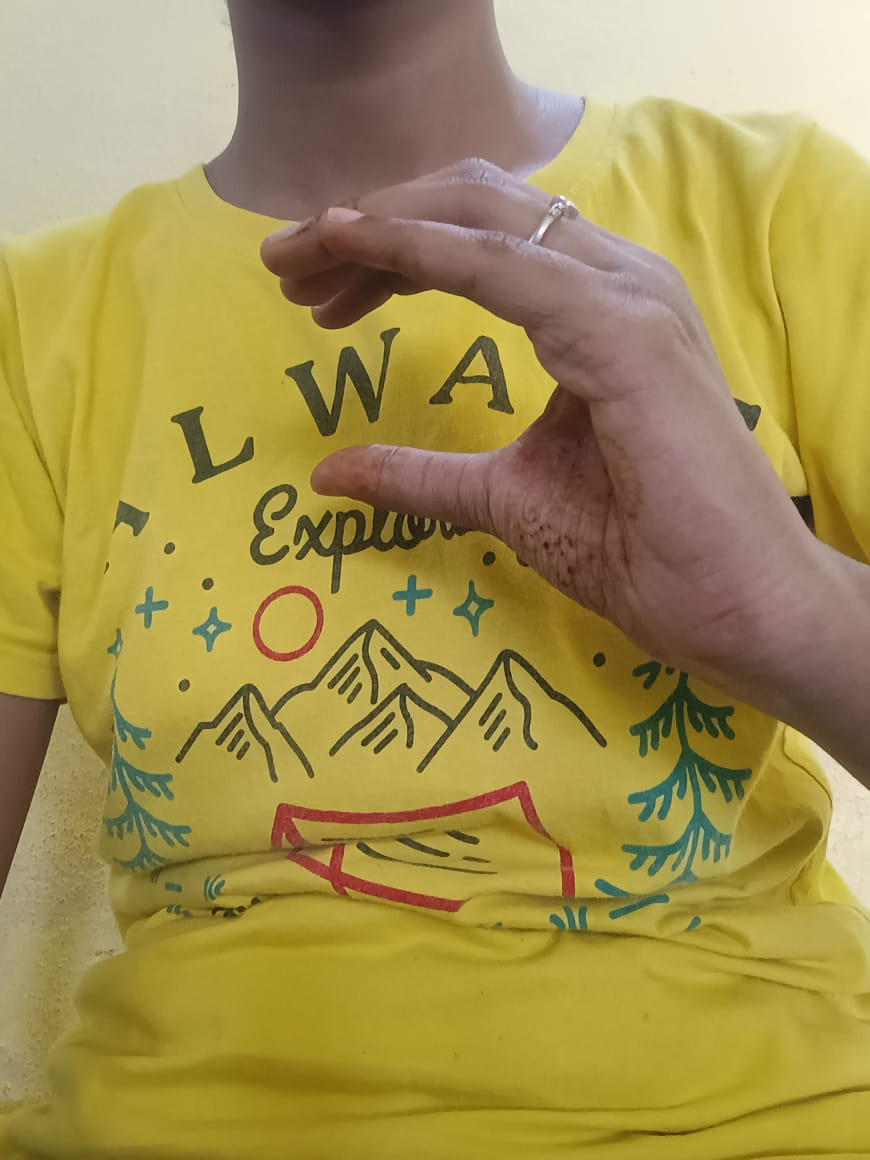C: (257, 157, 774, 613)
